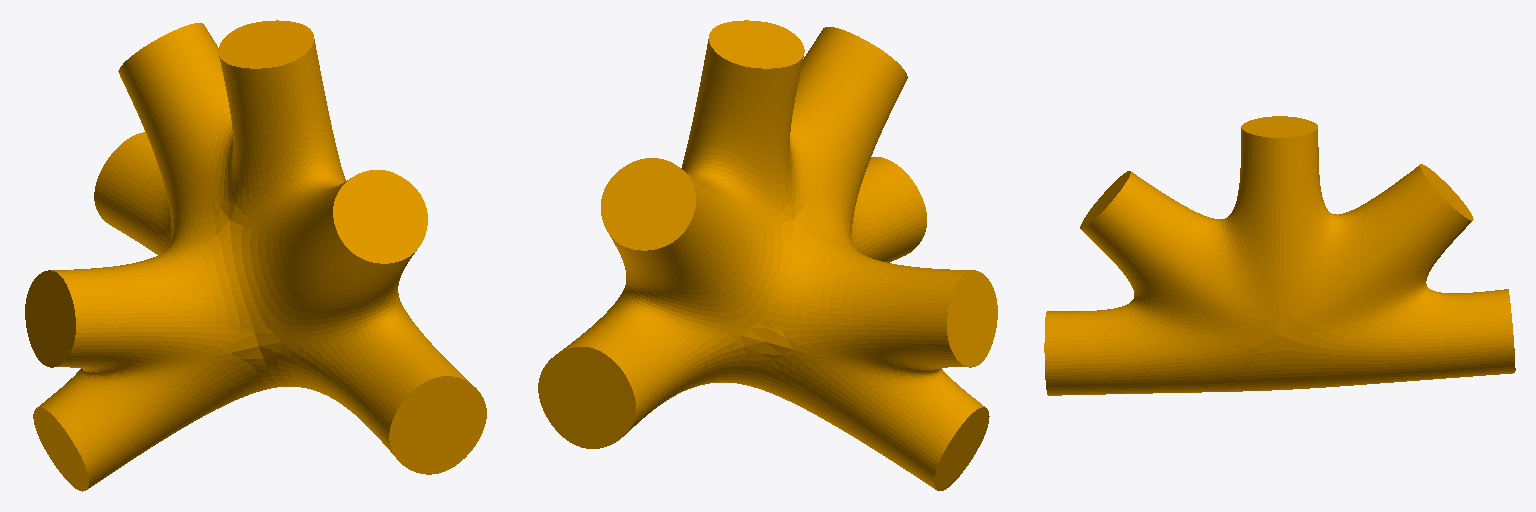
robot.urdf — object:
<robot name="object">
  <link name="object">
    <visual>
      <origin xyz="0 0 0"/>
      <geometry>
        <mesh filename="visual.obj" scale="1 1 1"/>
      </geometry>
    </visual>
    <collision>
      <origin xyz="0 0 0"/>
      <geometry>
        <mesh filename="visual.obj" scale="1 1 1"/>
      </geometry>
    </collision>
    <inertial>
      <mass value="0.05"/>
      <inertia ixx="0.00010299629608815062" iyy="5.95309910075864e-05" izz="9.852372481558676e-05" ixy="4.7629824901778774e-07" ixz="-8.859865466965578e-06" iyz="-2.4345609992281894e-06"/>
    </inertial>
  </link>
</robot>

--- Facts derived from the render (not from the file) ---
Views: 3 orthographic renders of the robot side by side, from view 1: azimuth 30°, elevation 25°; view 2: azimuth 150°, elevation 25°; view 3: azimuth 270°, elevation 25°.
Model object with 1 links and 0 joints (none), rooted at object, posed every joint at zero.
Links seen in each view (by area): view 1: object; view 2: object; view 3: object.
Boxes of the visible links, x1,y1,x2,y2 form: object: (25,20,486,491); object: (538,20,997,490); object: (1044,116,1515,395).
Size in the robot's own frame: 0.1096 by 0.1851 by 0.1371 metres.
Meshes: 1 distinct files referenced, 1 mesh visuals loaded (1 OBJ).
